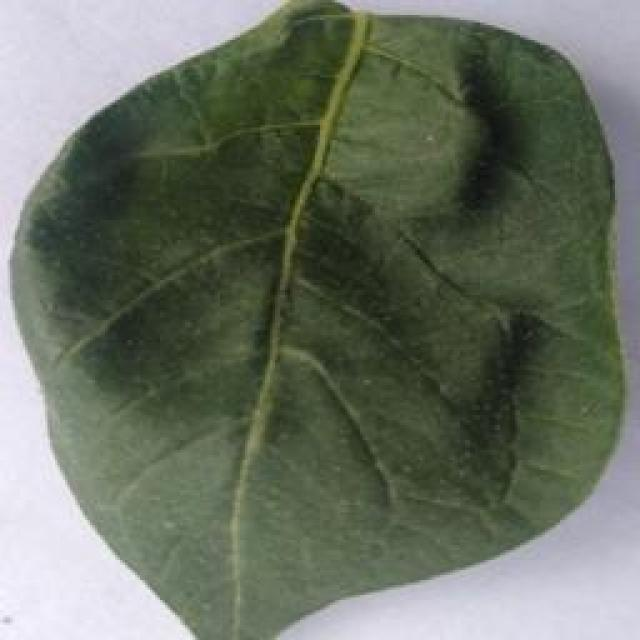Potato_Healthy: (5, 7, 632, 627)
